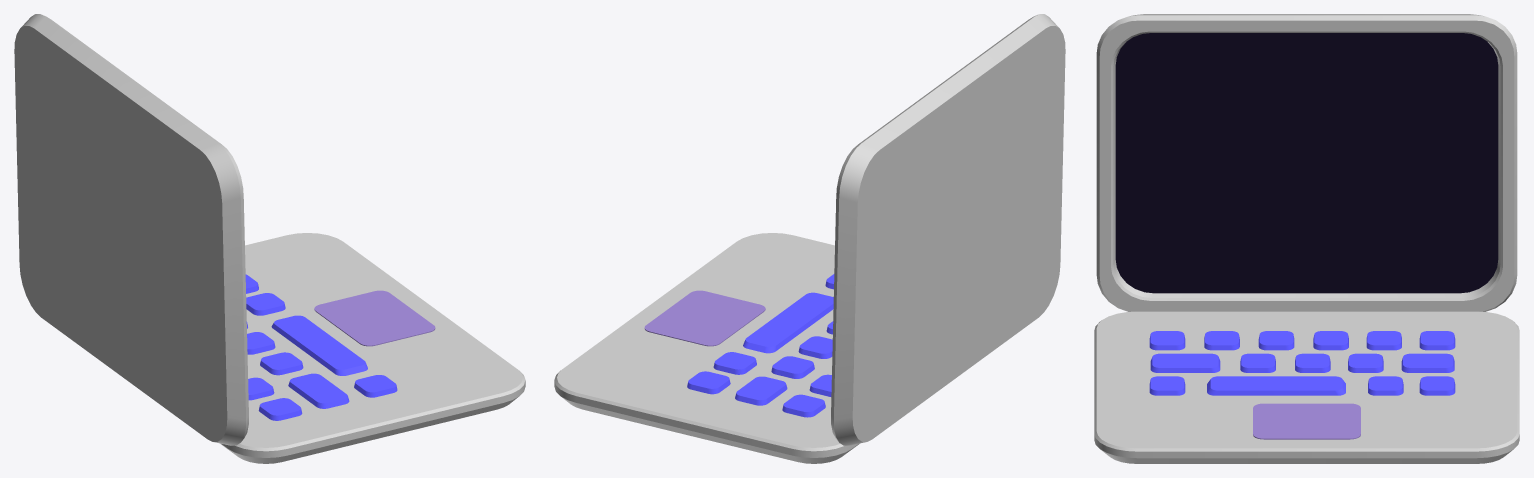
The model's file is Labtop.fbx.
3 views of the same model, side by side, from view 1: azimuth 30°, elevation 25°; view 2: azimuth 150°, elevation 25°; view 3: azimuth 270°, elevation 25° (orthographic). The views are drawn at different scales.
Parts seen in each view (by area): view 1: Screen, touch; view 2: Screen, touch; view 3: Screen, touch.
Boxes of the visible parts, x1,y1,x2,y2 form: Screen: (14,14,248,445); touch: (220,233,525,463); Screen: (831,14,1065,445); touch: (554,233,859,463); Screen: (1096,14,1517,311); touch: (1094,311,1519,463).
Size of the model in its own units: 167 by 161 by 200.
